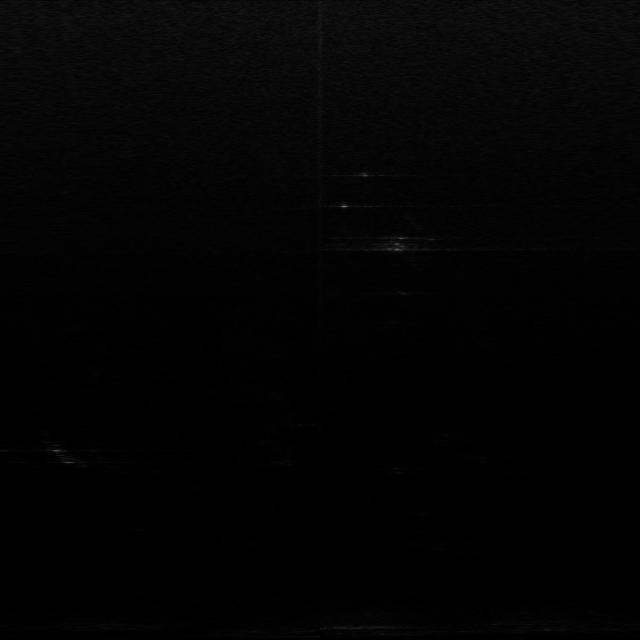rov: (382, 233, 412, 256)
